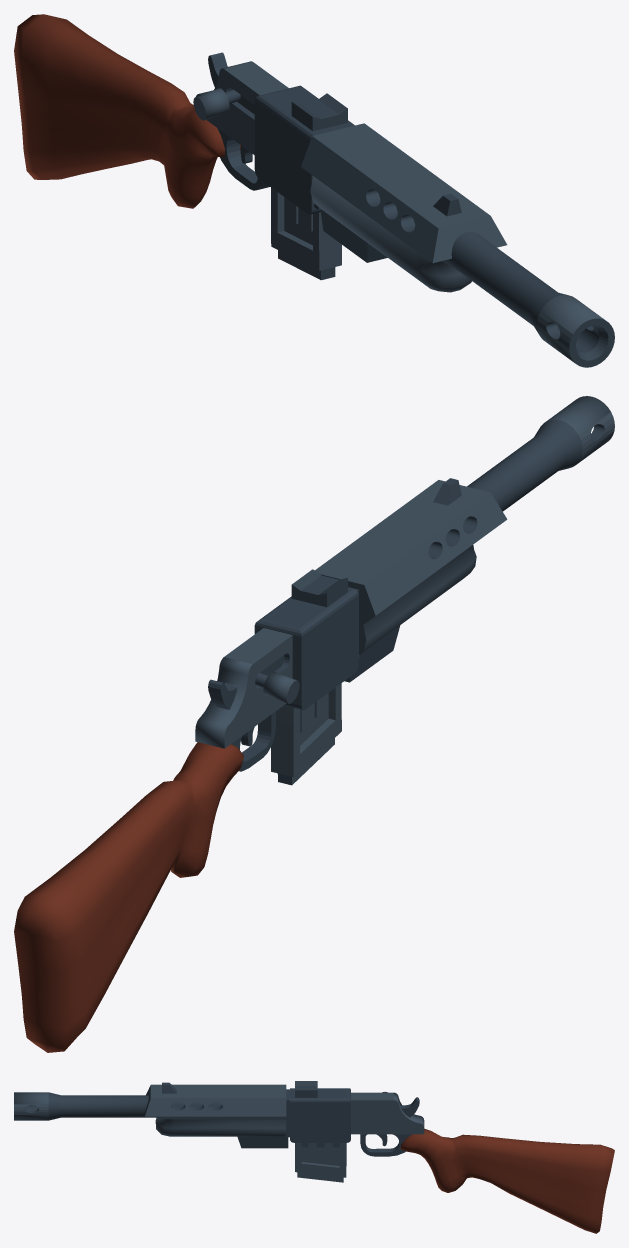
File: rifle.fbx
The picture shows the model from 3 angles, top to bottom: view 1: azimuth 30°, elevation 25°; view 2: azimuth 150°, elevation 25°; view 3: azimuth 270°, elevation 25°; orthographic projection. The views are drawn at different scales.
Parts seen in each view (by area): view 1: rifle; view 2: rifle; view 3: rifle.
Boxes of the visible parts, x1=… form: rifle: x1=14, y1=14, x2=614, y2=367; rifle: x1=14, y1=396, x2=614, y2=1052; rifle: x1=14, y1=1081, x2=614, y2=1233.
Bounding box in the file's own units: 27.93 × 86.2 × 317.
